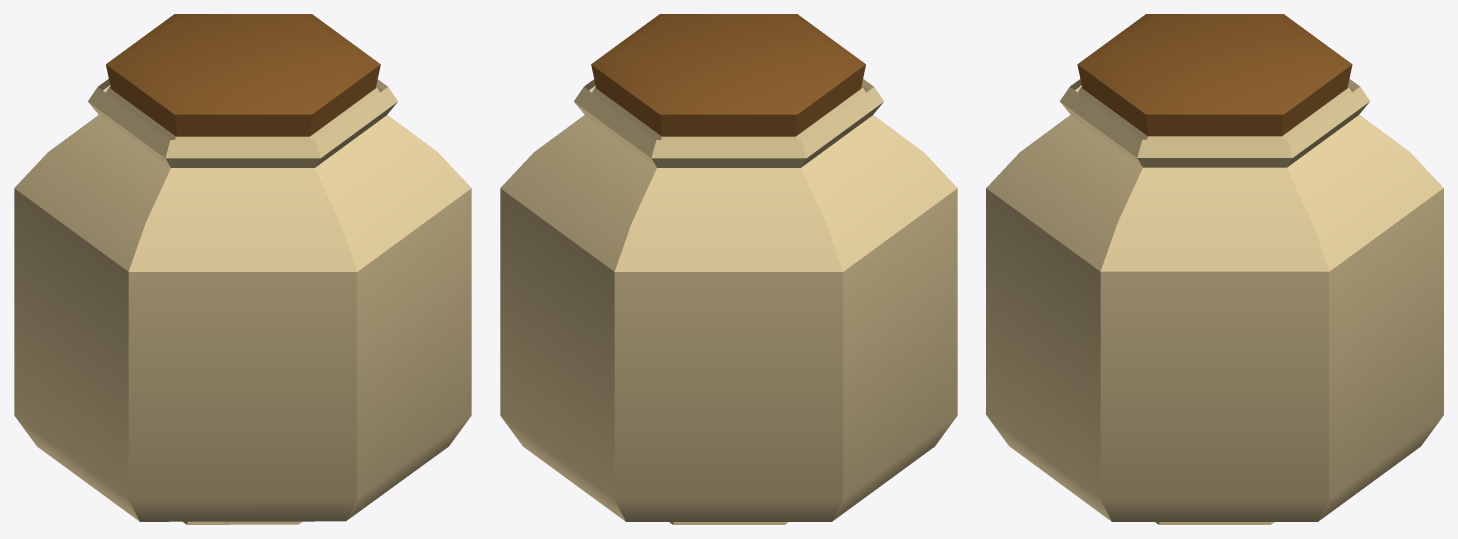
The model's file is Jar.fbx.
3 renders of one model, left to right at view 1: azimuth 30°, elevation 25°; view 2: azimuth 150°, elevation 25°; view 3: azimuth 270°, elevation 25°, orthographic.
Visible parts, largest first — view 1: Jar; view 2: Jar; view 3: Jar.
Boxes of the visible parts, left/top/right/bottom form: Jar: left=14, top=14, right=471, bottom=524; Jar: left=500, top=14, right=957, bottom=524; Jar: left=986, top=14, right=1443, bottom=524.
Bounding box in the file's own units: 0.1398 × 0.1672 × 0.1615.
